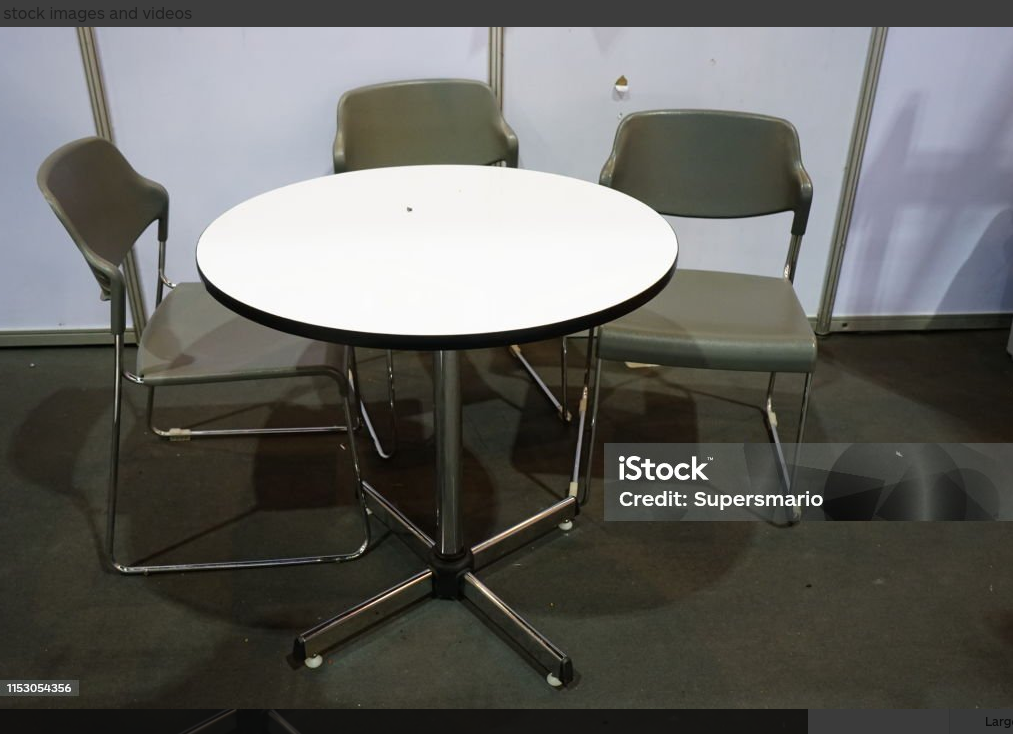obstacle: (190, 154, 634, 691), (35, 135, 378, 566), (583, 106, 820, 526)
